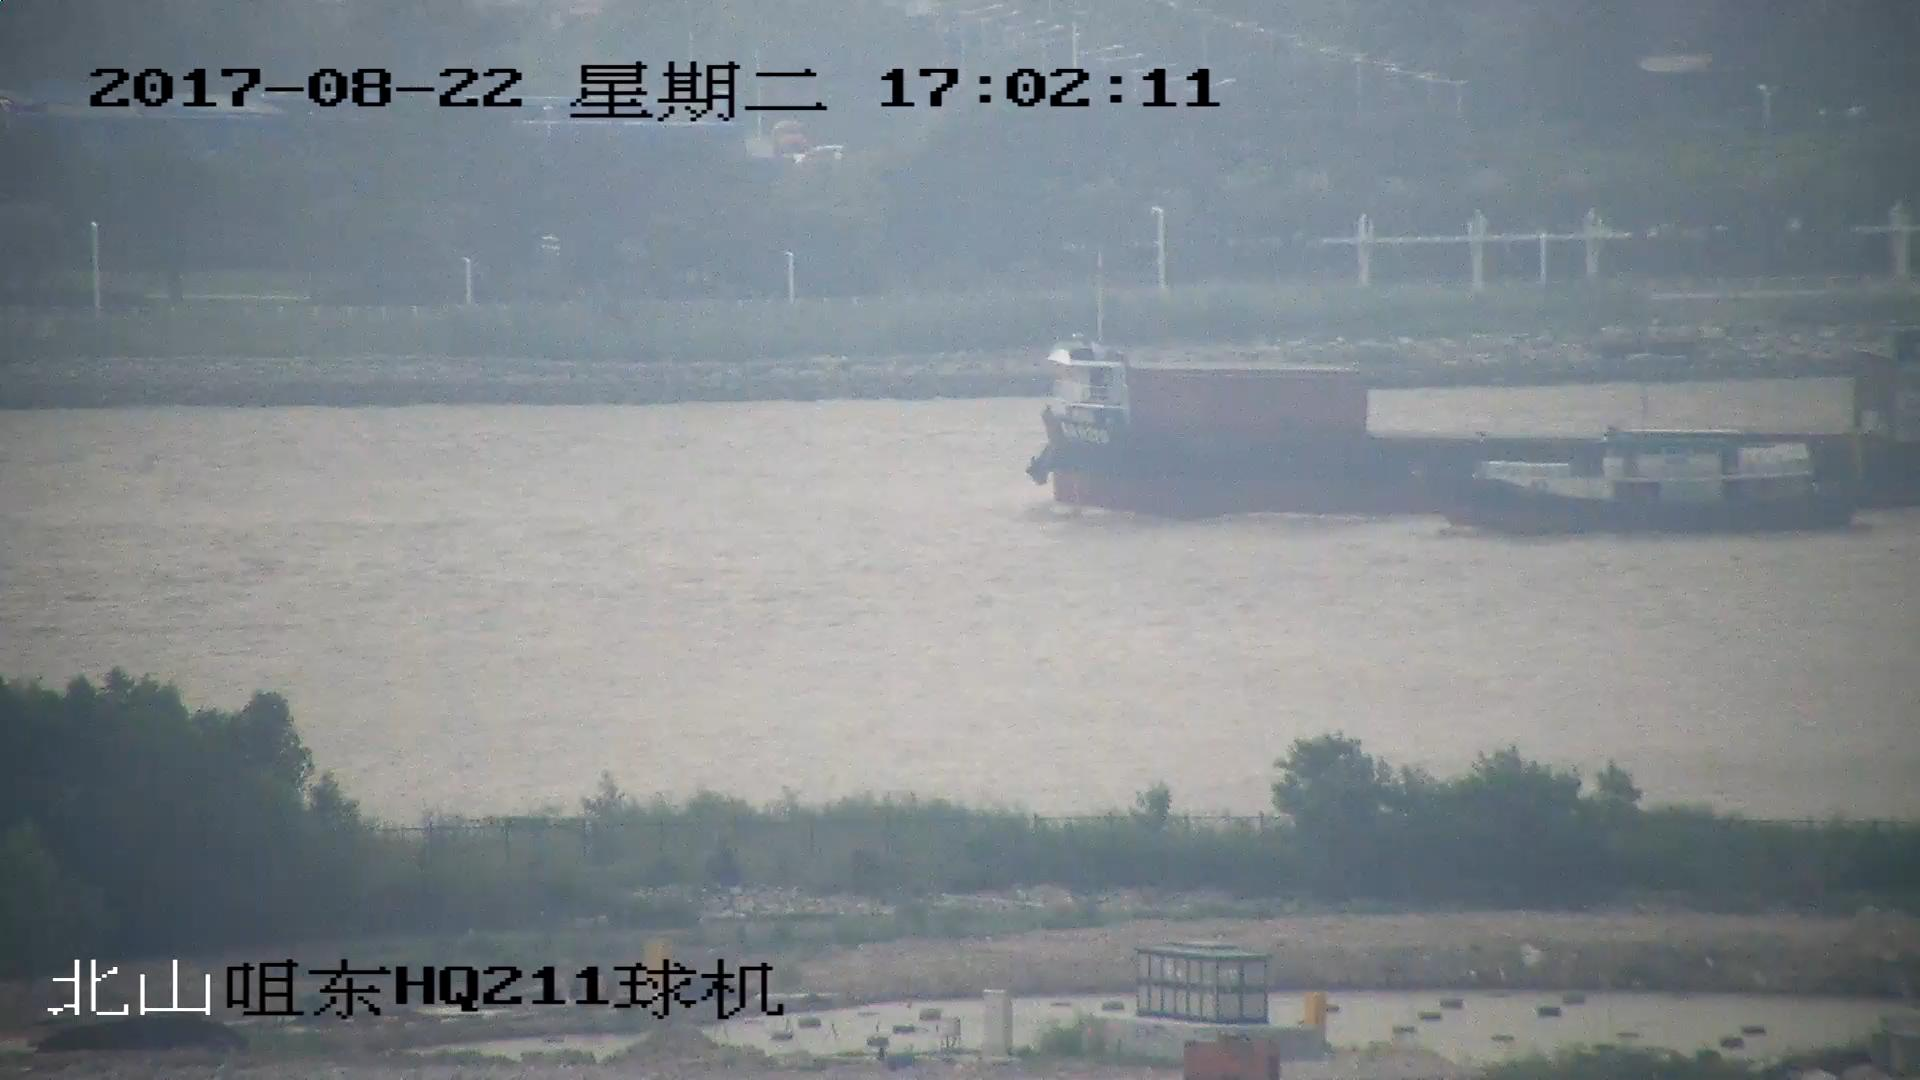fishing boat: (1451, 435, 1855, 535)
general cargo ship: (1016, 348, 1920, 515)
